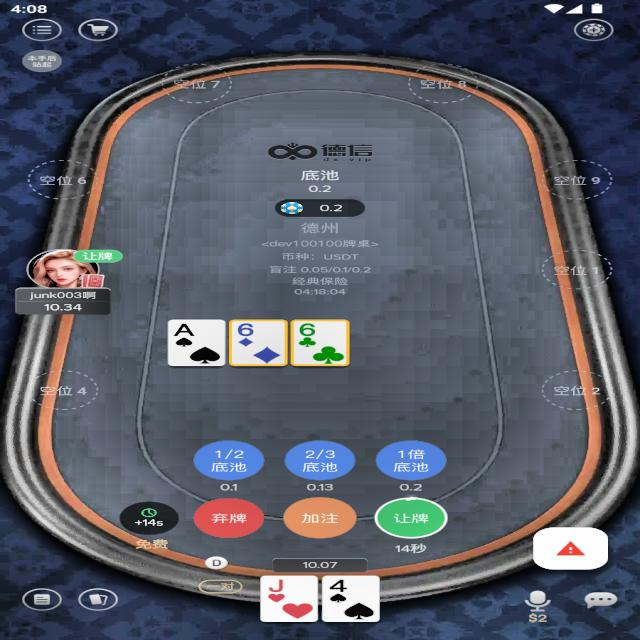4s: (328, 578, 348, 594)
6f: (234, 322, 256, 337)
6m: (298, 322, 320, 337)
As: (169, 322, 202, 338)
Jh: (265, 577, 290, 593)
